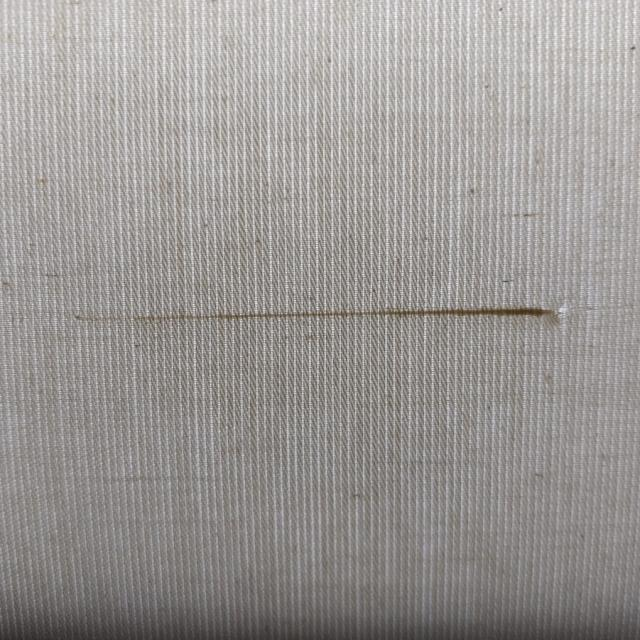stains: (54, 285, 608, 364)
